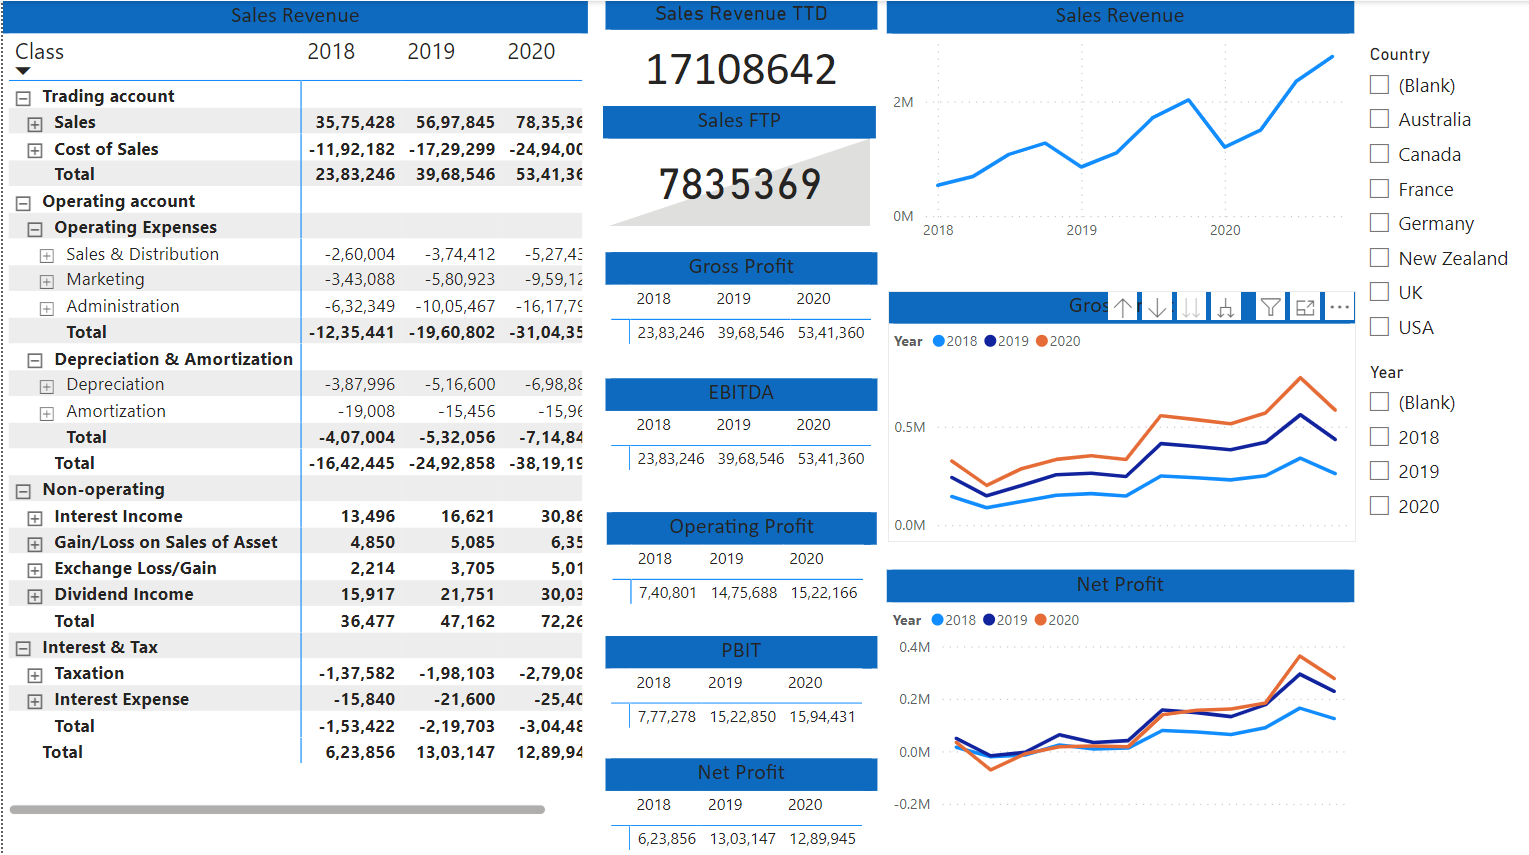

What the dashboard file says about the page in this screenshot:
{"tool":"powerbi","page":{"name":"P & L","canvas":[1280,720],"ordinal":1},"visuals":[{"type":"pivotTable","title":"Sales Revenue","fields":{"Values":["tbl_GL.Total_FTP"],"Rows":["tbl_ChartofAccounts.Class","tbl_ChartofAccounts.SubClass","tbl_ChartofAccounts.SubClass2","tbl_ChartofAccounts.Account"],"Columns":["tbl_Calendar.Date.Variation.Date Hierarchy.Year","tbl_Calendar.Date.Variation.Date Hierarchy.Quarter","tbl_Calendar.Date.Variation.Date Hierarchy.Month","tbl_Calendar.Date.Variation.Date Hierarchy.Day"]},"box":[0,0,490.7,687.2],"z":0},{"type":"slicer","fields":{"Values":["tbl_territory.Country"]},"box":[1132.6,31.4,147.7,266.3],"z":1000},{"type":"pivotTable","title":"Gross Profit","fields":{"Values":["tbl_GL.GrossProfit"],"Columns":["tbl_Calendar.Date.Variation.Date Hierarchy.Year","tbl_Calendar.Date.Variation.Date Hierarchy.Quarter","tbl_Calendar.Date.Variation.Date Hierarchy.Month","tbl_Calendar.Date.Variation.Date Hierarchy.Day"]},"box":[504.7,210.5,227.9,87.2],"z":2000},{"type":"pivotTable","title":"Operating Profit","fields":{"Values":["tbl_GL.OperatingProfirt"],"Columns":["tbl_Calendar.Date.Variation.Date Hierarchy.Year","tbl_Calendar.Date.Variation.Date Hierarchy.Quarter","tbl_Calendar.Date.Variation.Date Hierarchy.Month","tbl_Calendar.Date.Variation.Date Hierarchy.Day"]},"box":[505.8,429.1,226.7,87.2],"z":3000},{"type":"pivotTable","title":"PBIT","fields":{"Values":["tbl_GL.PBIT"],"Columns":["tbl_Calendar.Date.Variation.Date Hierarchy.Year","tbl_Calendar.Date.Variation.Date Hierarchy.Quarter","tbl_Calendar.Date.Variation.Date Hierarchy.Month","tbl_Calendar.Date.Variation.Date Hierarchy.Day"]},"box":[504.7,532.6,227.9,86],"z":4000},{"type":"pivotTable","title":"Net Profit","fields":{"Values":["tbl_GL.NetProfit"],"Columns":["tbl_Calendar.Date.Variation.Date Hierarchy.Year","tbl_Calendar.Date.Variation.Date Hierarchy.Quarter","tbl_Calendar.Date.Variation.Date Hierarchy.Month","tbl_Calendar.Date.Variation.Date Hierarchy.Day"]},"box":[504.7,634.9,227.9,84.9],"z":5000},{"type":"pivotTable","title":"EBITDA","fields":{"Values":["tbl_GL.EBITDA"],"Columns":["tbl_Calendar.Date.Variation.Date Hierarchy.Year","tbl_Calendar.Date.Variation.Date Hierarchy.Quarter","tbl_Calendar.Date.Variation.Date Hierarchy.Month","tbl_Calendar.Date.Variation.Date Hierarchy.Day"]},"box":[504.7,316.3,227.9,87.2],"z":6000},{"type":"card","title":"Sales Revenue TTD","fields":{"Values":["Sum(tbl_GL.Amount)"]},"box":[504.7,0,227.9,88.4],"z":7000},{"type":"kpi","title":"Sales FTP","fields":{"Indicator":["Sum(tbl_GL.Amount)"],"TrendLine":["tbl_Calendar.Date.Variation.Date Hierarchy.Year"]},"box":[503.5,88.4,229.1,105.8],"z":8000},{"type":"slicer","fields":{"Values":["tbl_Calendar.Year"]},"box":[1132.6,297.7,147.7,155.8],"z":9000},{"type":"lineChart","title":"Sales Revenue","fields":{"Y":["Sum(tbl_GL.Amount)"],"Category":["tbl_Calendar.Date.Variation.Date Hierarchy.Year","tbl_Calendar.Date.Variation.Date Hierarchy.Quarter","tbl_Calendar.Date.Variation.Date Hierarchy.Month","tbl_Calendar.Date.Variation.Date Hierarchy.Day"]},"box":[740.7,0,391.9,210.5],"z":10000},{"type":"lineChart","title":"Gross Profit","fields":{"Y":["Sum(tbl_GL.Amount)"],"Category":["tbl_Calendar.Date.Variation.Date Hierarchy.Quarter","tbl_Calendar.Date.Variation.Date Hierarchy.Month","tbl_Calendar.Date.Variation.Date Hierarchy.Day"],"Series":["tbl_Calendar.Date.Variation.Date Hierarchy.Year"]},"box":[741.9,243,391.9,210.5],"z":11000},{"type":"lineChart","title":"Net Profit","fields":{"Y":["Sum(tbl_GL.Amount)"],"Category":["tbl_Calendar.Date.Variation.Date Hierarchy.Quarter","tbl_Calendar.Date.Variation.Date Hierarchy.Month","tbl_Calendar.Date.Variation.Date Hierarchy.Day"],"Series":["tbl_Calendar.Date.Variation.Date Hierarchy.Year"]},"box":[740.7,476.7,391.9,210.5],"z":12000}]}

Visuals, with their boxes in screenshot pixels (x1, y1, x2, y2), scaled from the page's 1280x720 canvas onto the 1529x855 screenshot:
"Sales Revenue" pivotTable: (0,0,586,816)
slicer - tbl_territory.Country: (1353,37,1528,354)
"Gross Profit" pivotTable: (603,250,875,354)
"Operating Profit" pivotTable: (604,510,875,613)
"PBIT" pivotTable: (603,632,875,735)
"Net Profit" pivotTable: (603,754,875,854)
"EBITDA" pivotTable: (603,376,875,479)
"Sales Revenue TTD" card: (603,0,875,105)
"Sales FTP" kpi: (601,105,875,231)
slicer - tbl_Calendar.Year: (1353,354,1528,539)
"Sales Revenue" lineChart: (885,0,1353,250)
"Gross Profit" lineChart: (886,289,1354,539)
"Net Profit" lineChart: (885,566,1353,816)
